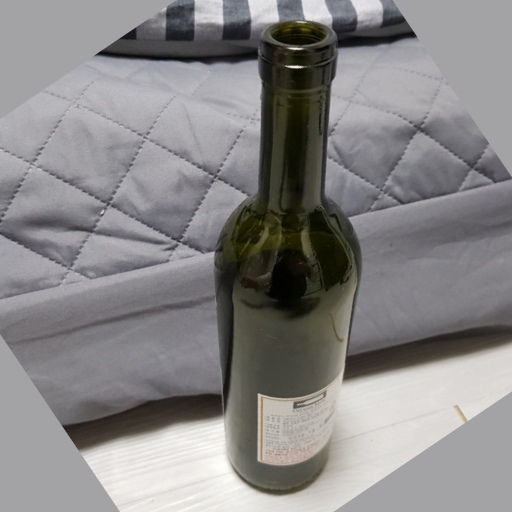Glass_2: (204, 16, 365, 498)
